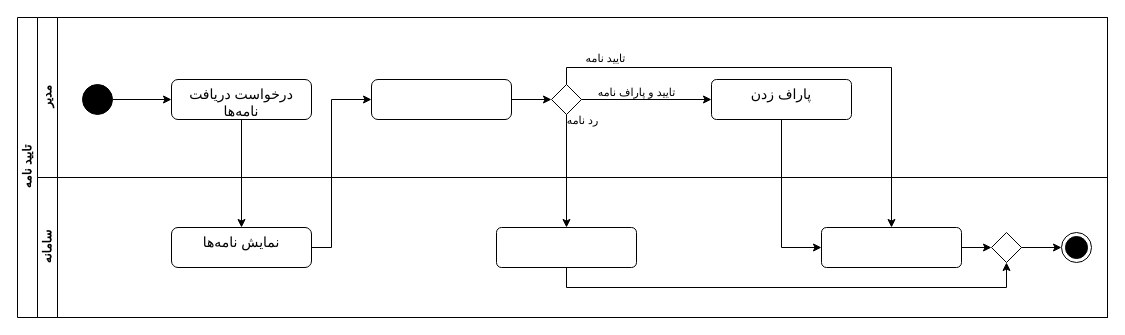
Image size: 1125x335. Some labels were removed from this diagram. Each missing label, with the centre of its shape:
ارسال نامه به نفر بعدی در مسیر نامه: the point at 891,247
انتخاب نامه مورد نظر: the point at 441,99
برگشت زدن نامه: the point at 566,247
